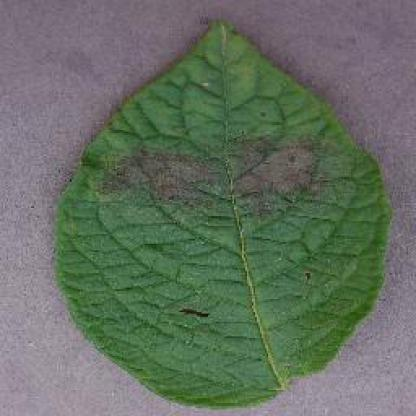bad leaf: (30, 14, 395, 398)
